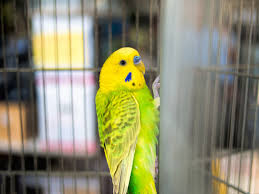budgie: (94, 46, 162, 194)
